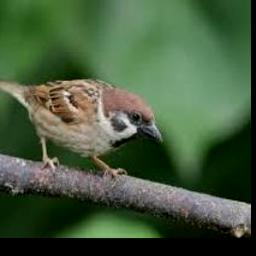Sparrow: (0, 75, 162, 179)
